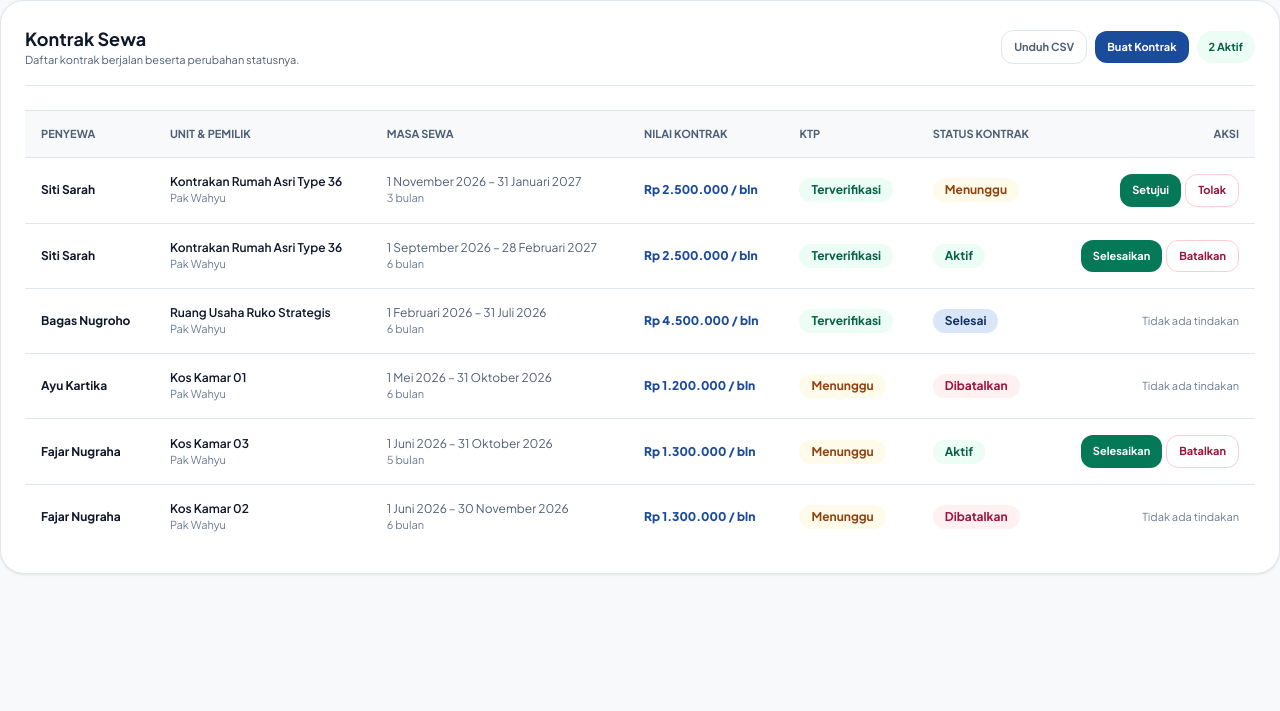
OwnerContractsPage › menampilkan galat overlap saat membuat kontrak
The width and height of the screenshot is (1280, 711).
Click the button "Buat Kontrak" at (1142,47), box [1095,30,1188,63]
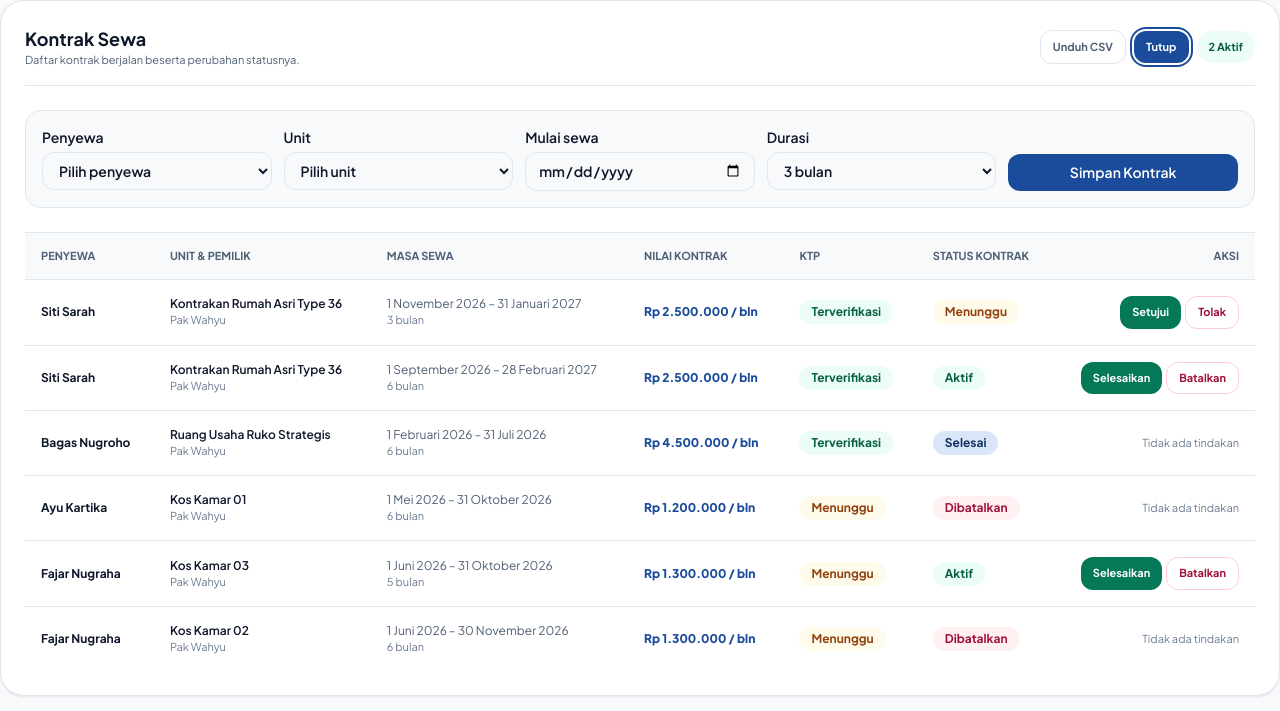
Select "Rian Pratama" in the dropdown labelled "Penyewa" at (157,170), box [42,152,272,190]
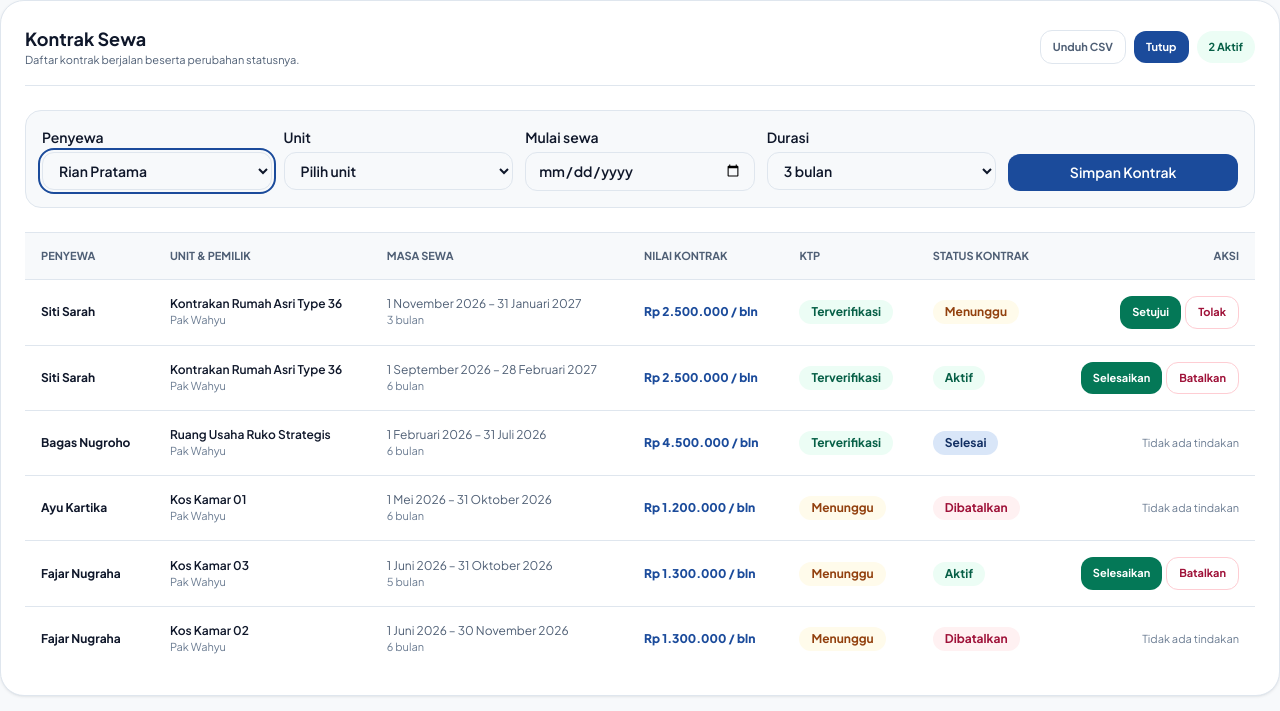
Select "Kos Kamar 01" in the dropdown labelled "Unit" at (398,170), box [284,152,513,190]
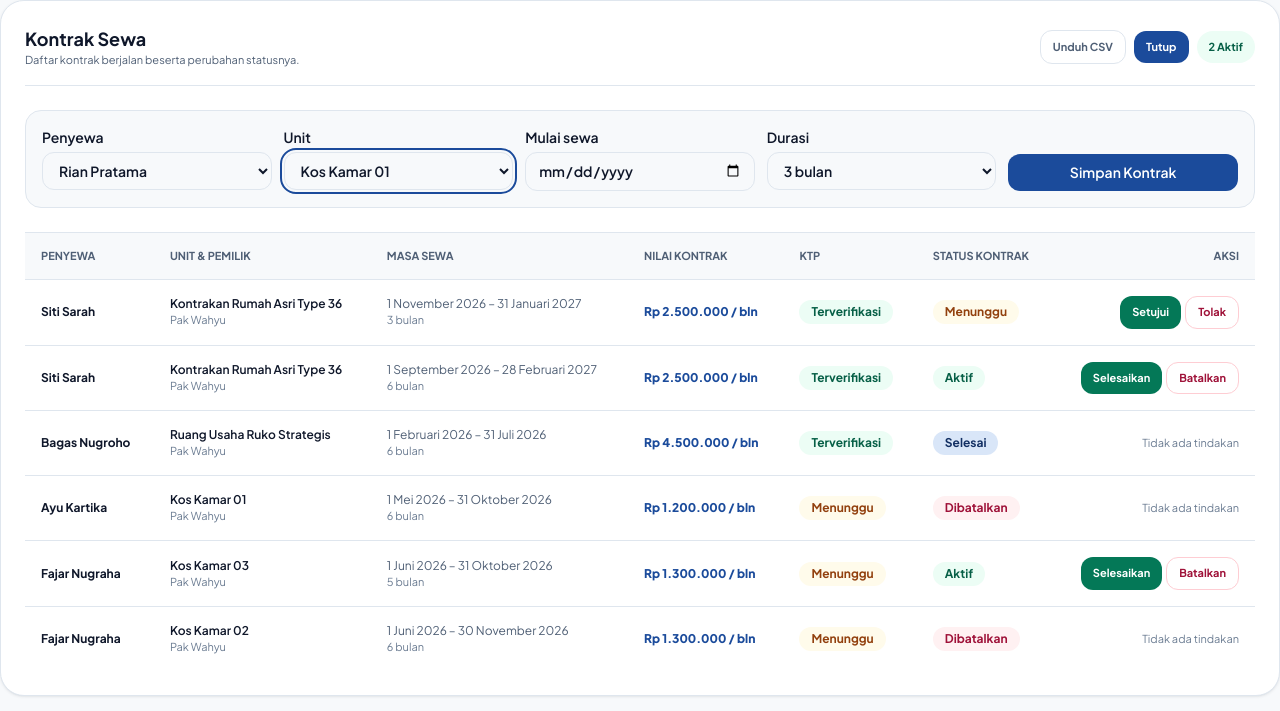
Type "2026-11-01" into the date field labelled "Mulai sewa" at (640,171), box [525,152,755,190]
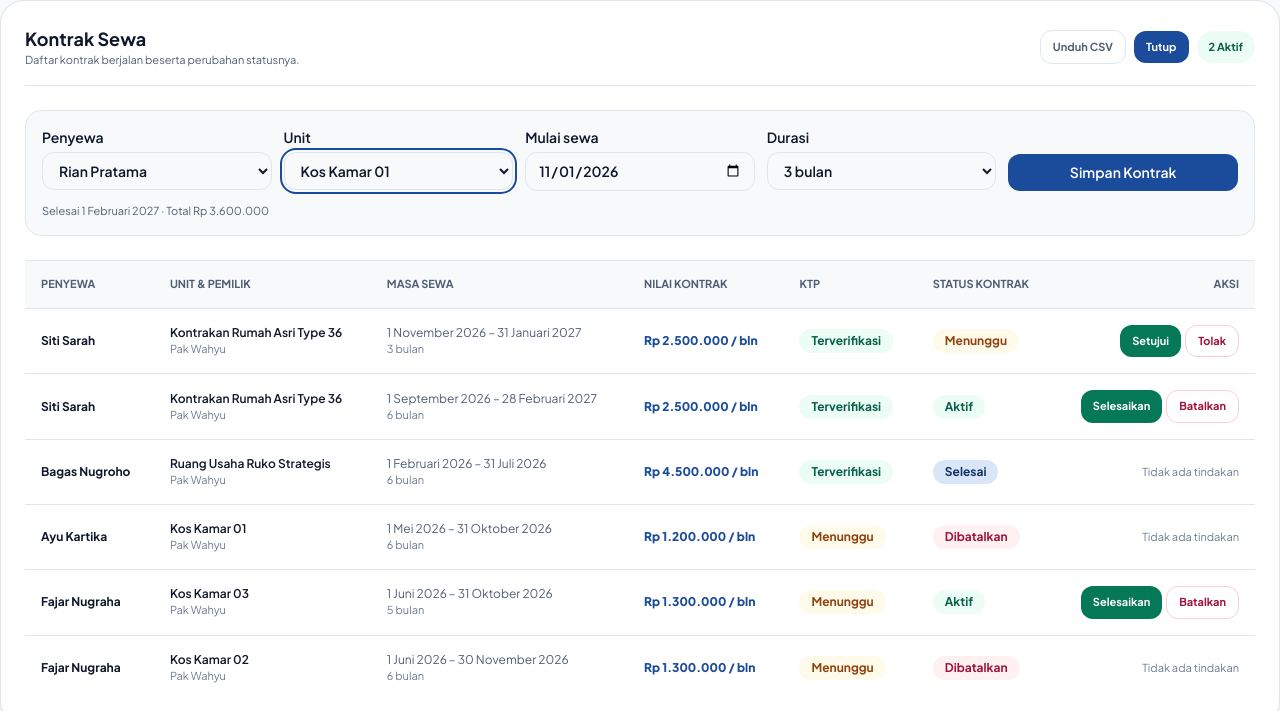
Click the button "Simpan Kontrak" at (1123,172), box [1008,154,1238,190]
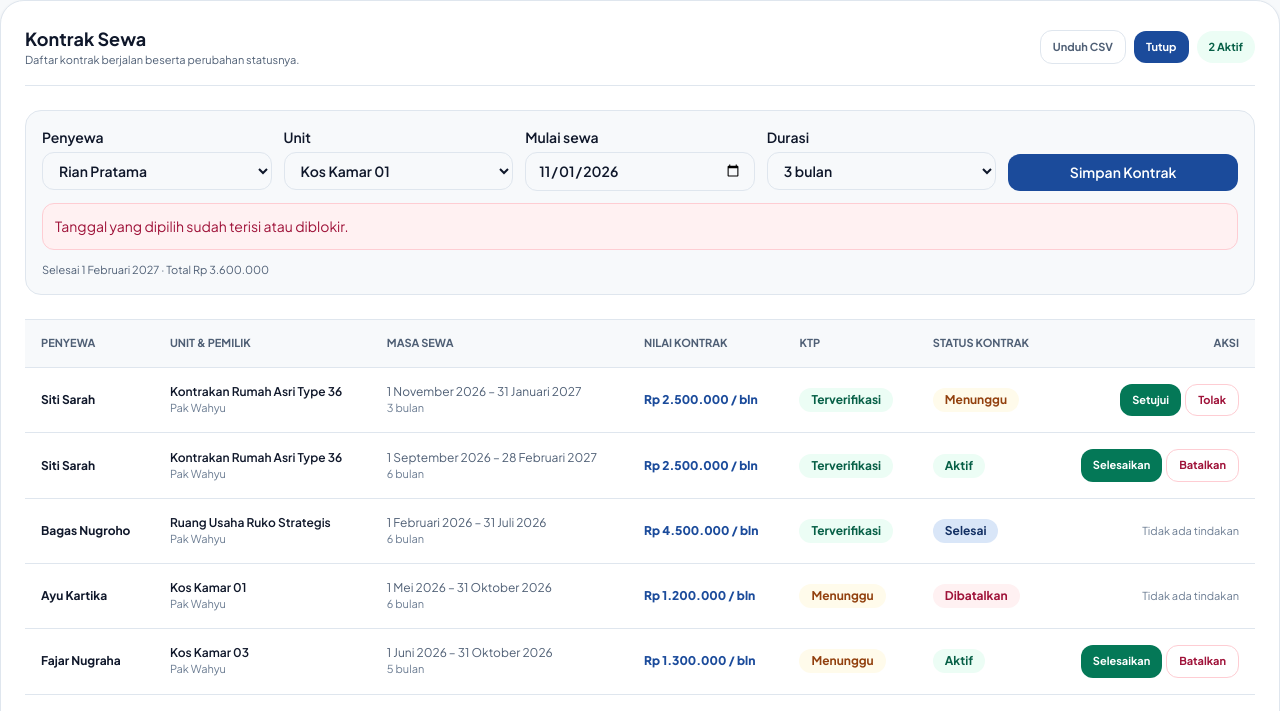
Expected: the message shows "sudah terisi atau diblokir", [55,216,348,234]
